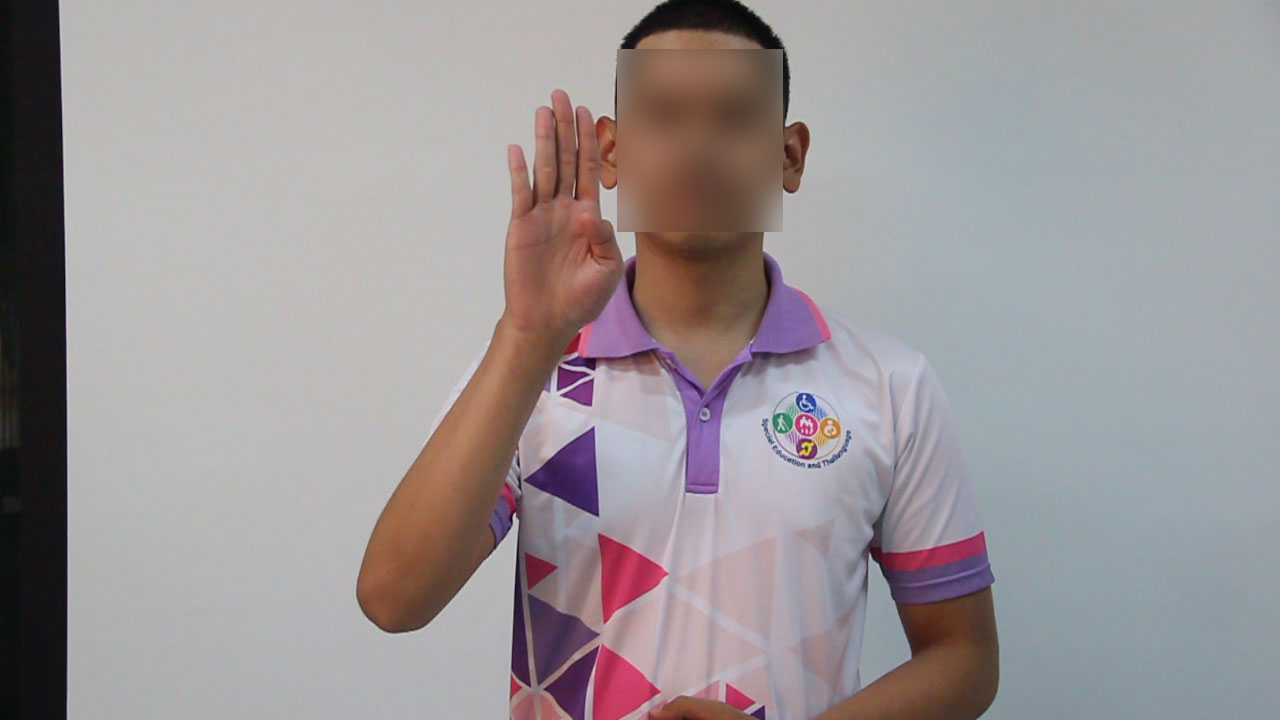bor: (484, 74, 635, 365)
